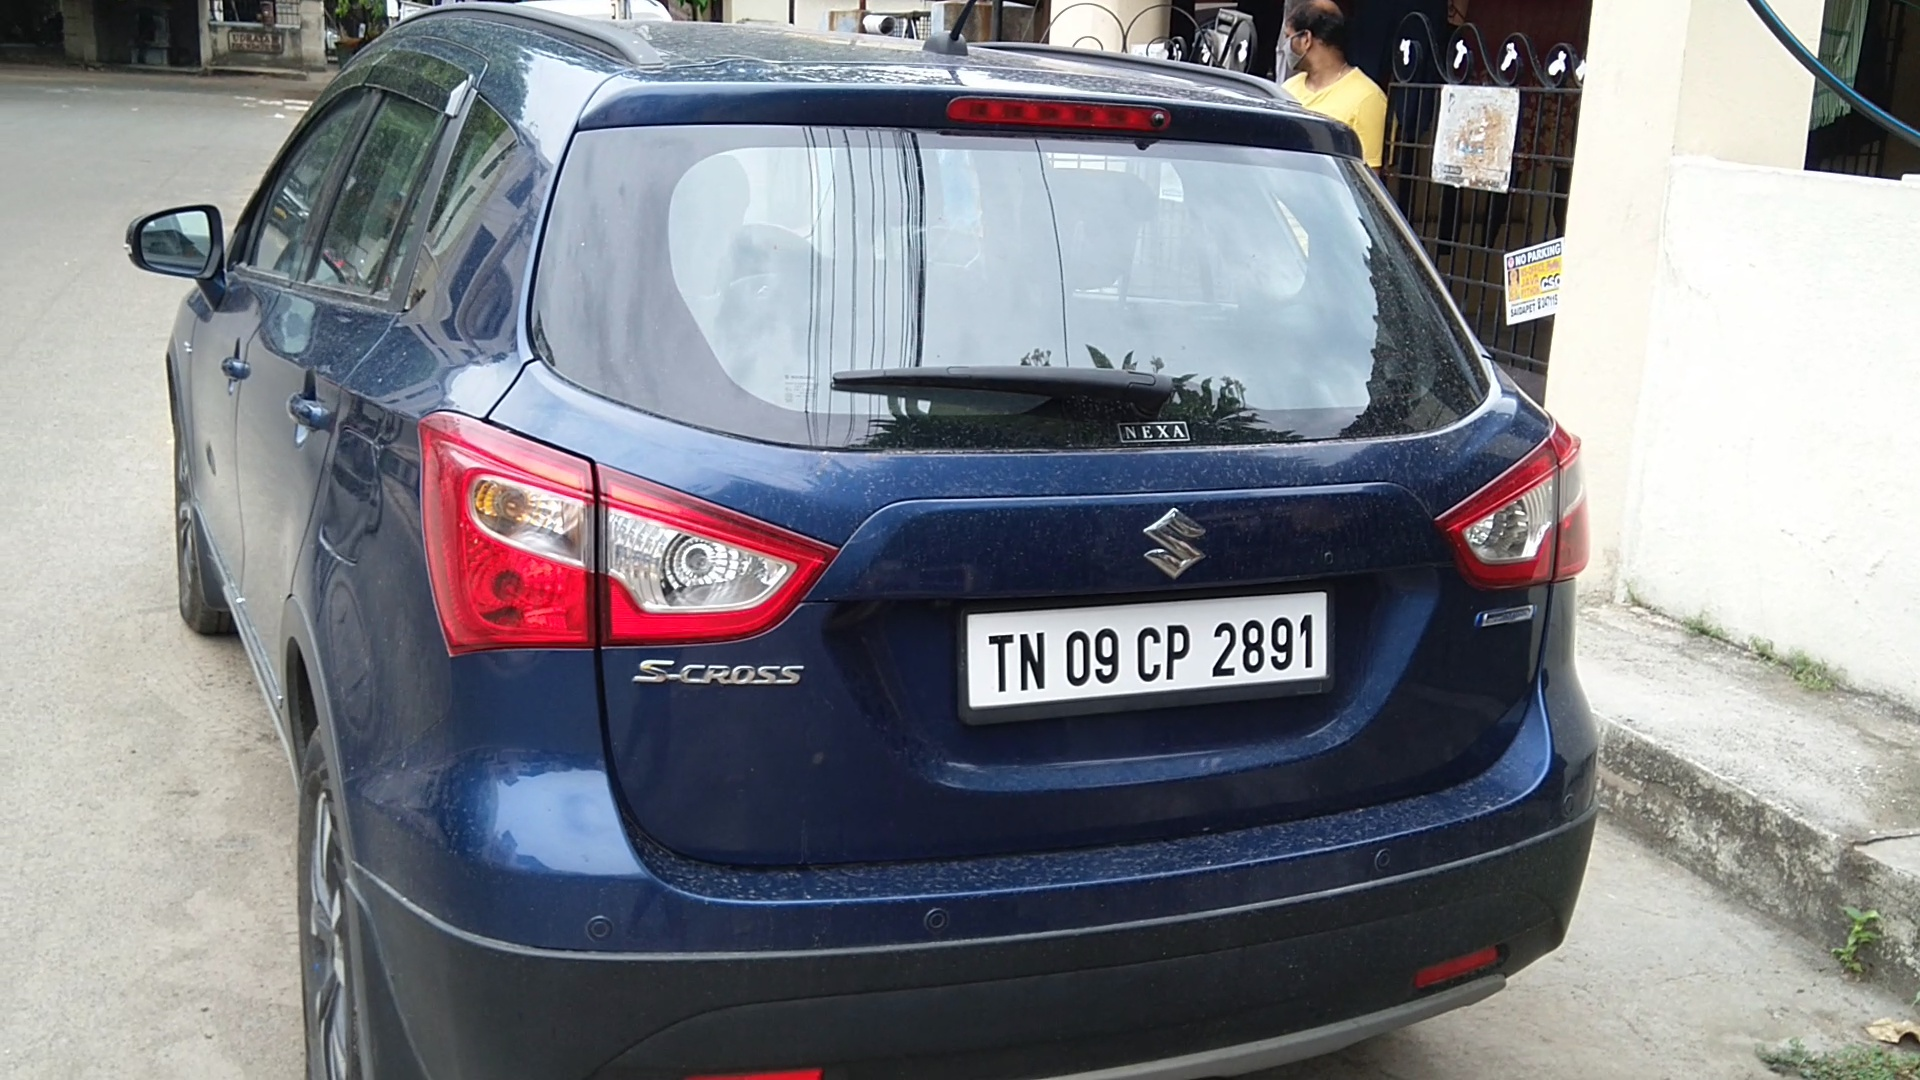rear_camera: (1141, 99, 1179, 137)
shvs: (1470, 589, 1544, 644)
